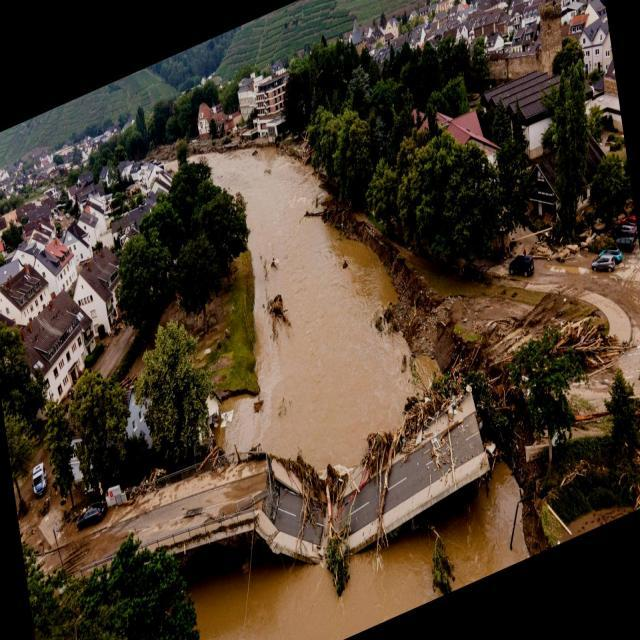flood: (155, 48, 474, 639)
